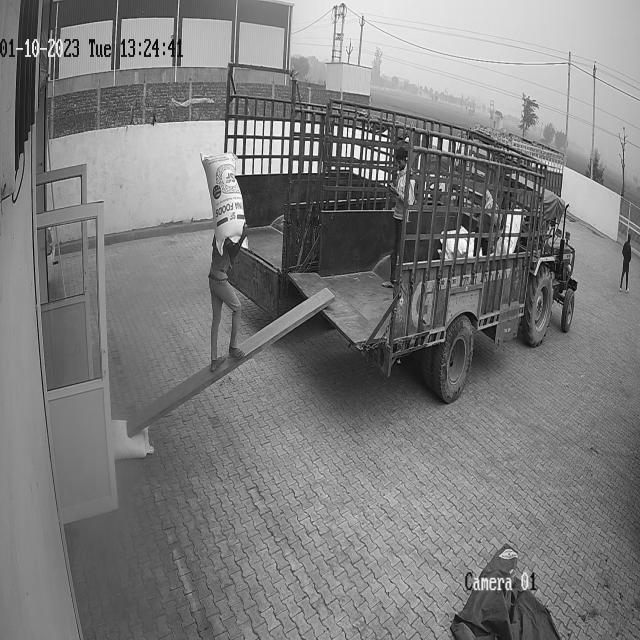sack: (200, 151, 248, 255), (113, 419, 153, 461)
